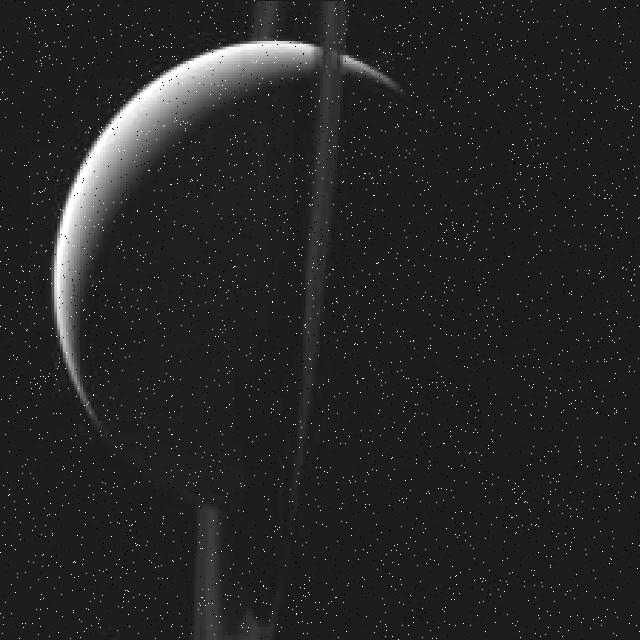Saturn: (54, 0, 454, 640)
